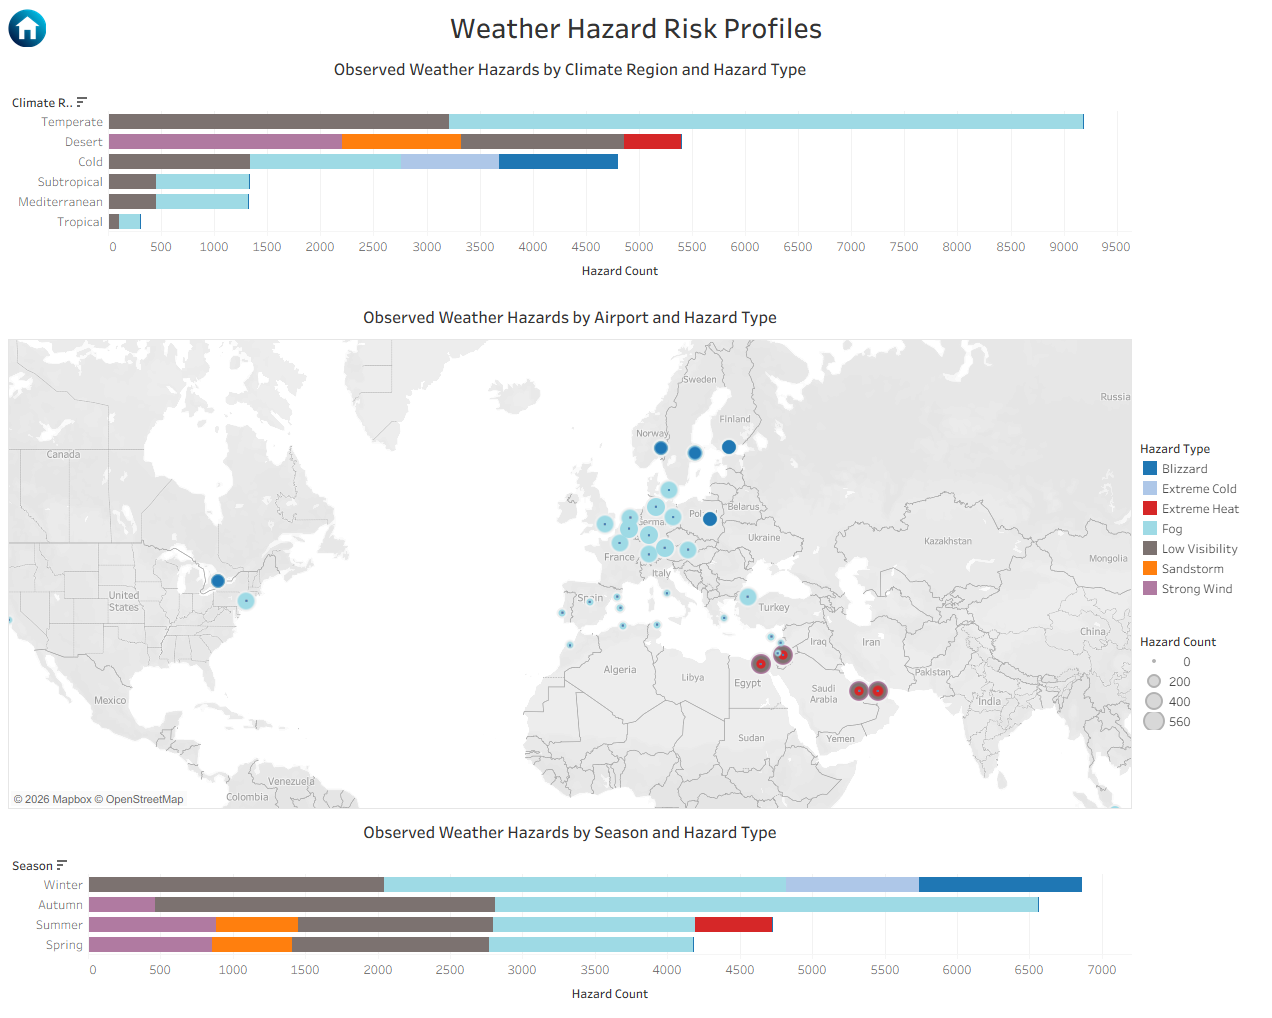

The page's visual inventory and layout, read from the dashboard file:
{"tool":"tableau","page":{"name":"(4) Weather Hazard Risk Profiles","canvas":[650,860],"ordinal":3},"visuals":[{"type":"worksheet","title":"4.2 Weather Hazard Climate Bars","mark":"Automatic","rows":["climate_region"],"cols":["hazard_count"],"box":[8,8,474,254]},{"type":"legend","title":"4.2 Weather Hazard Climate Bars","param":"[federated.0wmrhhy1egh4hd14uaoma1xmaw36].[none:hazard_type:nk]","box":[482,8,160,422]},{"type":"worksheet","title":"4.1 Weather Hazard Airport Map","mark":"Automatic","rows":["latitude"],"cols":["longitude"],"box":[8,262,474,351]},{"type":"legend","title":"4.1 Weather Hazard Airport Map","param":"[federated.0wmrhhy1egh4hd14uaoma1xmaw36].[sum:hazard_count:qk]","box":[482,430,160,422]},{"type":"worksheet","title":"4.3 Weather Hazard Season Bars","mark":"Automatic","rows":["season"],"cols":["hazard_count"],"box":[8,613,474,239]}]}

Visuals, with their boxes on the page's 650x860 design canvas (x1, y1, x2, y2). These are canvas units, not pixel positions in the 1272x1018 screenshot, which may show the page scaled, cropped or inside an application window:
"4.2 Weather Hazard Climate Bars" worksheet: 8 8 482 262
"4.2 Weather Hazard Climate Bars" legend: 482 8 642 430
"4.1 Weather Hazard Airport Map" worksheet: 8 262 482 613
"4.1 Weather Hazard Airport Map" legend: 482 430 642 852
"4.3 Weather Hazard Season Bars" worksheet: 8 613 482 852
